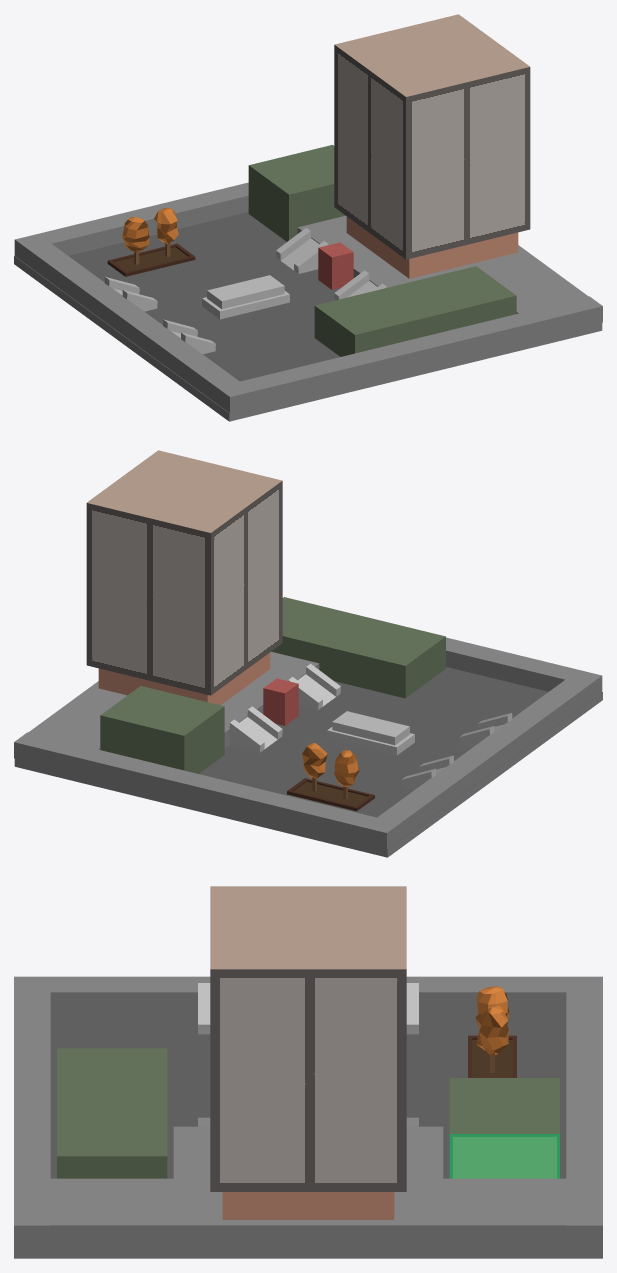
Rendered from building_c.gltf.
3 views of the same model, one above another, from view 1: azimuth 30°, elevation 25°; view 2: azimuth 150°, elevation 25°; view 3: azimuth 270°, elevation 25° (orthographic). The views are drawn at different scales.
Parts seen in each view (by area): view 1: highrise; view 2: highrise; view 3: highrise.
Part boxes in pixels (left/top/right/bottom): highrise: left=14, top=14, right=602, bottom=421; highrise: left=14, top=450, right=602, bottom=857; highrise: left=14, top=886, right=602, bottom=1258.
Bounding box in the file's own units: 3.01 × 1.62 × 3.
Materials: 1 (1 with a texture image).
